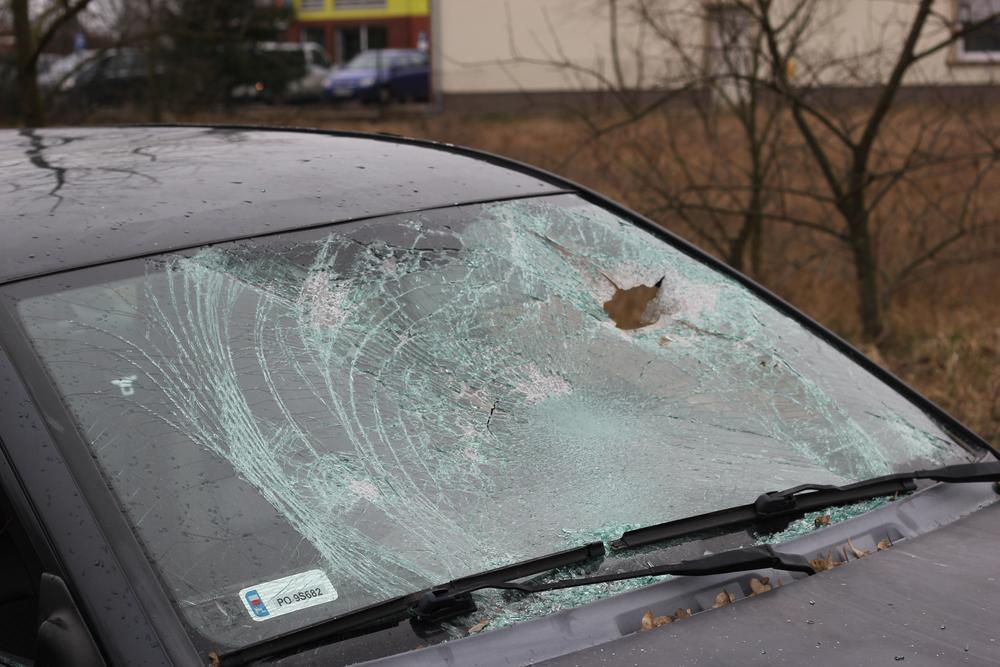glass shatter: (4, 193, 982, 667)
